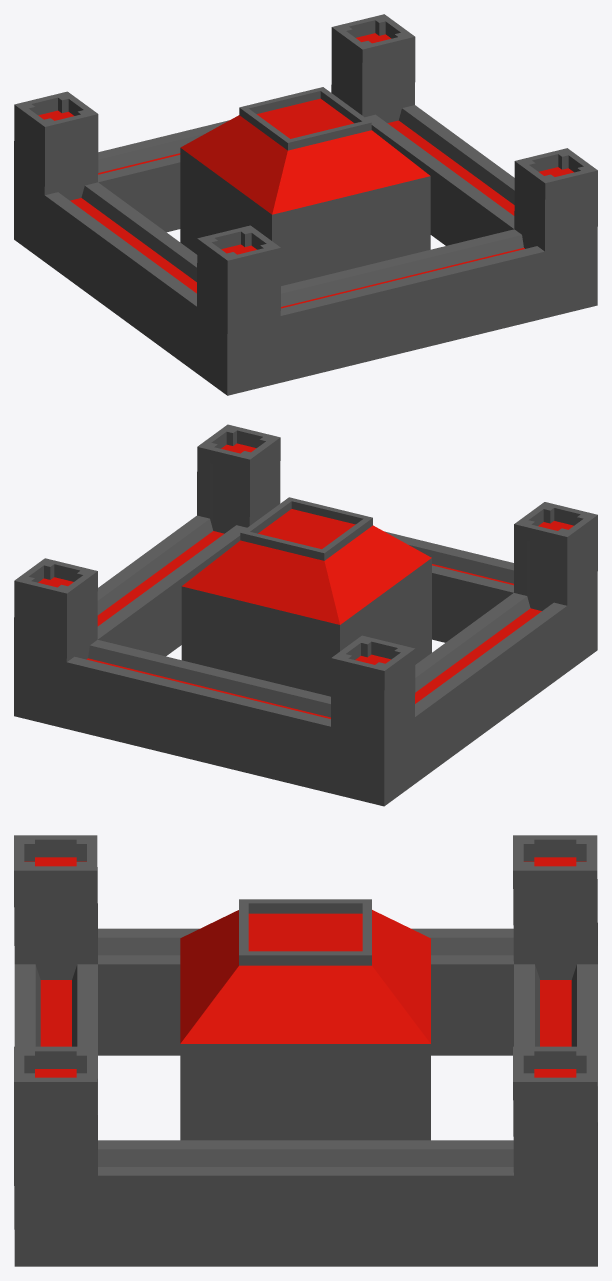
File: Barracks.fbx
The picture shows the model from 3 angles, top to bottom: view 1: azimuth 30°, elevation 25°; view 2: azimuth 150°, elevation 25°; view 3: azimuth 270°, elevation 25°; orthographic projection. The views are drawn at different scales.
Parts seen in each view (by area): view 1: Cube; view 2: Cube; view 3: Cube.
Part boxes in pixels (box(x1,y1,x2,y2)): Cube: box(14, 14, 597, 395); Cube: box(14, 424, 597, 806); Cube: box(14, 835, 597, 1266).
Size of the model in its own units: 1401 by 571 by 1401.
